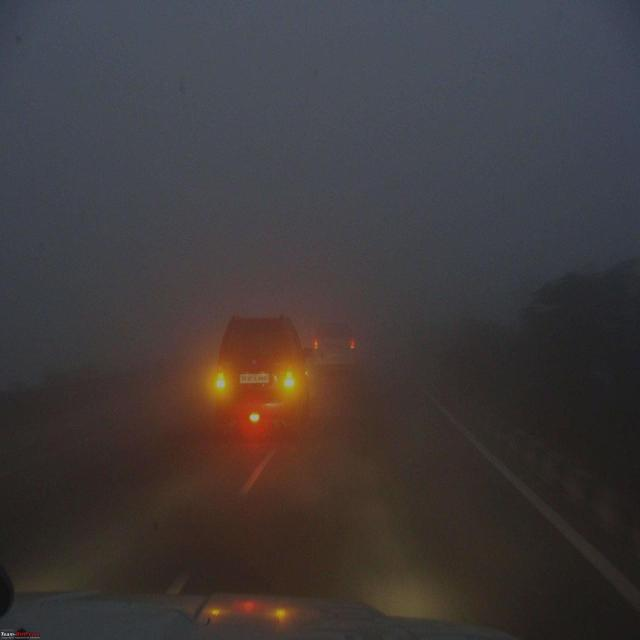car: (213, 311, 313, 435), (311, 319, 355, 377)
